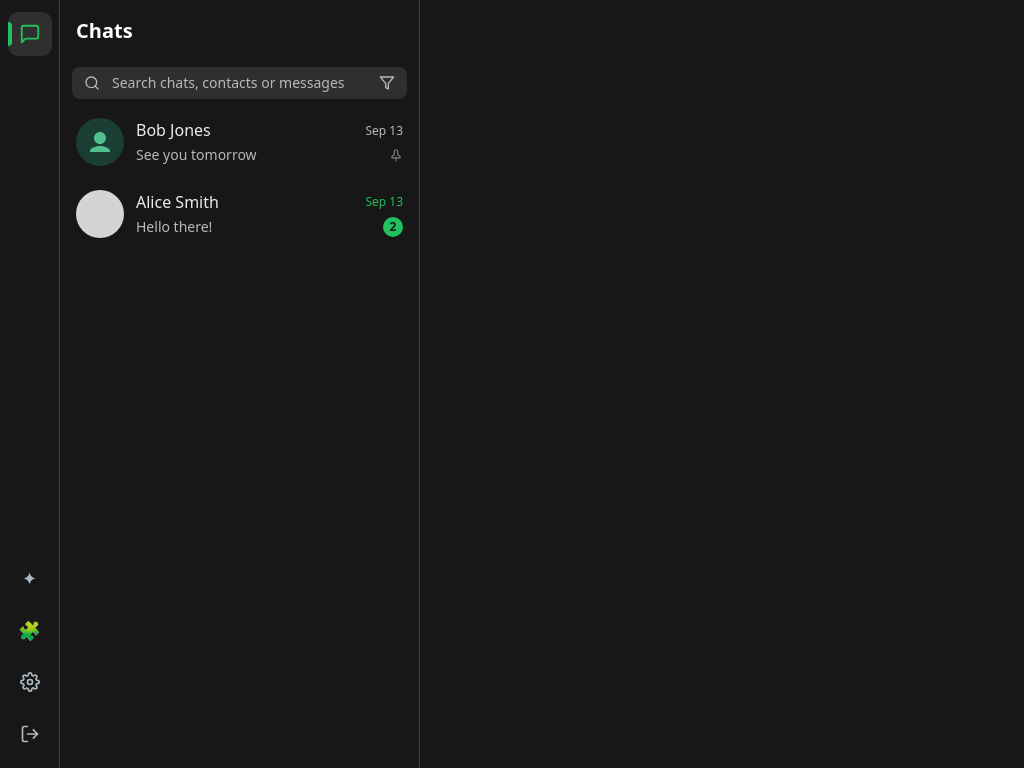
Test case: ChatList › opens index confirmation modal when sparkle button is clicked
The image size is (1024, 768).
Click the button titled "Index for Semantic Search" at [30, 578], box [8, 556, 52, 600]
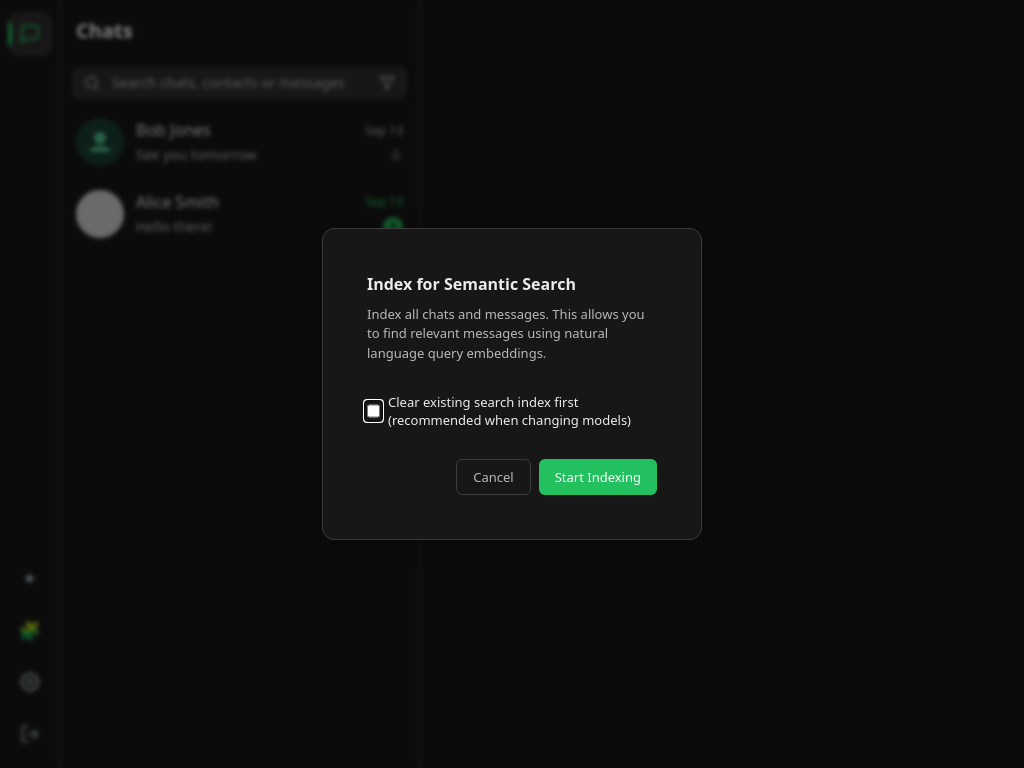
Now the heading "Index for Semantic Search" is shown, box [367, 273, 576, 295]
